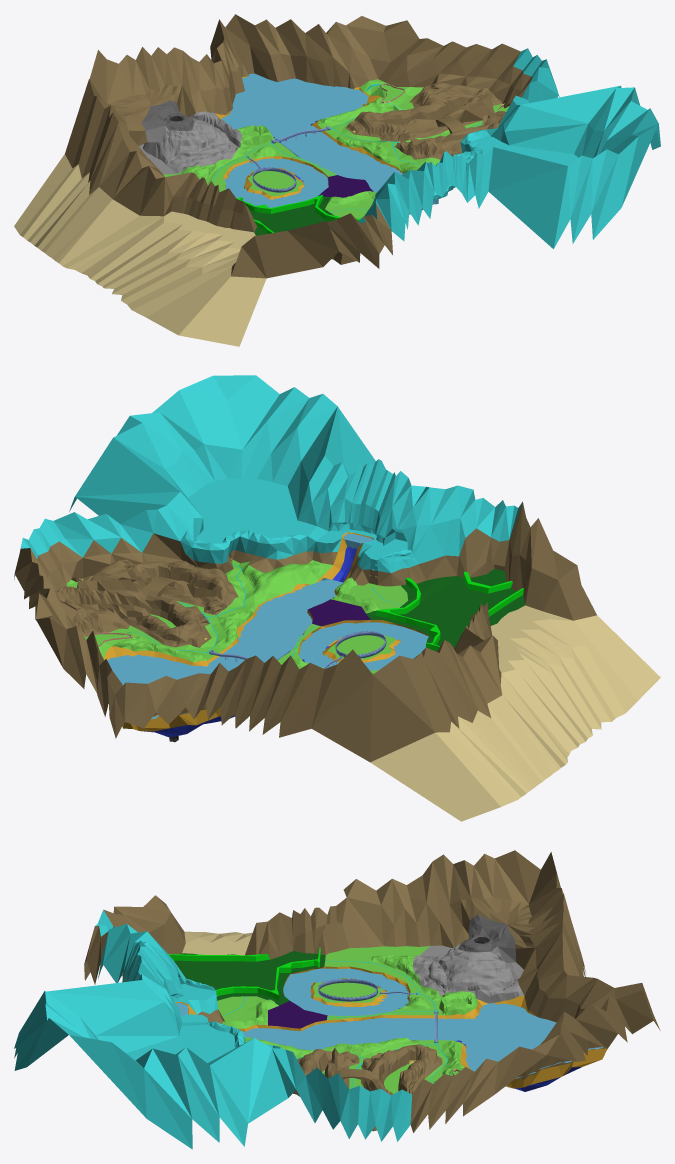
File: MainAreaTerrian.fbx
3 views of the same model, one above another, from view 1: azimuth 30°, elevation 25°; view 2: azimuth 150°, elevation 25°; view 3: azimuth 270°, elevation 25° (orthographic). The views are drawn at different scales.
Parts seen in each view (by area): view 1: Land, Water.001; view 2: Land, Water.001; view 3: Land, Water.001.
Boxes of the visible parts, bbox=[...] form: Land: bbox=[14, 14, 660, 346]; Water.001: bbox=[221, 73, 438, 214]; Land: bbox=[14, 375, 660, 821]; Water.001: bbox=[107, 533, 428, 719]; Land: bbox=[14, 850, 660, 1149]; Water.001: bbox=[175, 968, 602, 1078].
Bounding box in the file's own units: 171023 × 46488 × 171011.
